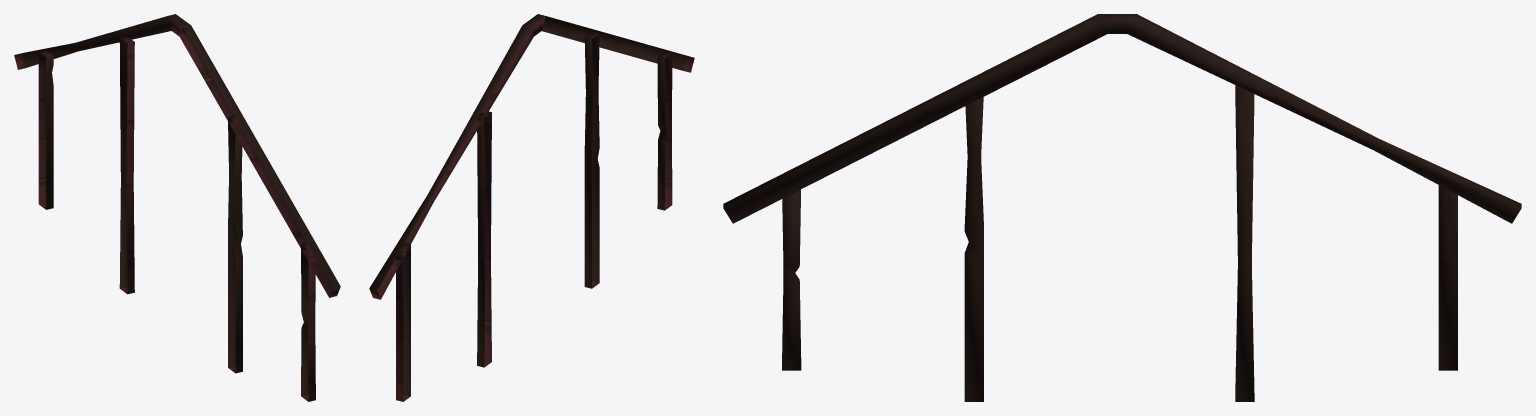
Rendered from FrameDeMadeira.fbx.
3 renders of one model, left to right at view 1: azimuth 30°, elevation 25°; view 2: azimuth 150°, elevation 25°; view 3: azimuth 270°, elevation 25°, orthographic. The views are drawn at different scales.
Parts seen in each view (by area): view 1: FrameDeMadeira; view 2: FrameDeMadeira; view 3: FrameDeMadeira.
Part boxes in pixels (x1,y1,x2,y2): FrameDeMadeira: (14, 14, 340, 401); FrameDeMadeira: (369, 14, 694, 401); FrameDeMadeira: (723, 14, 1521, 401).
Size of the model in its own units: 25.8 by 1608 by 854.
